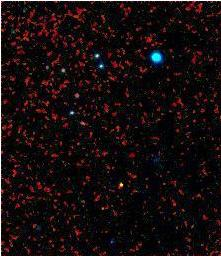star: (106, 173, 136, 203)
